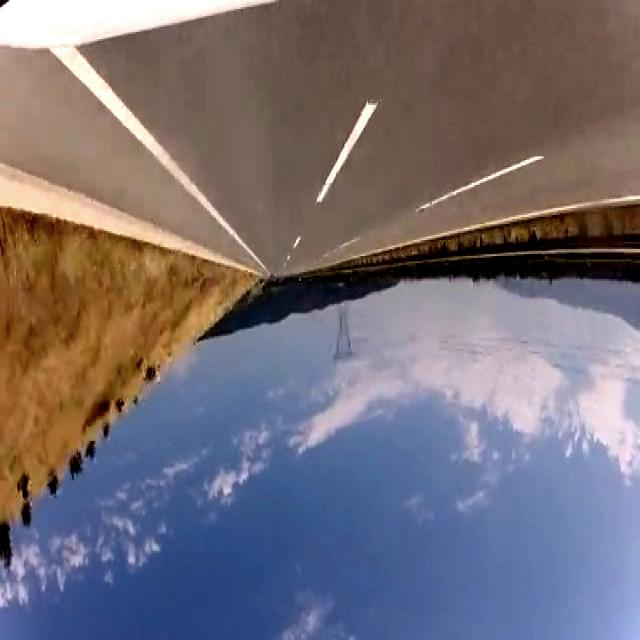lane: (52, 48, 270, 276), (416, 157, 544, 210), (317, 103, 378, 202)
road: (81, 4, 640, 276), (1, 48, 260, 270)
